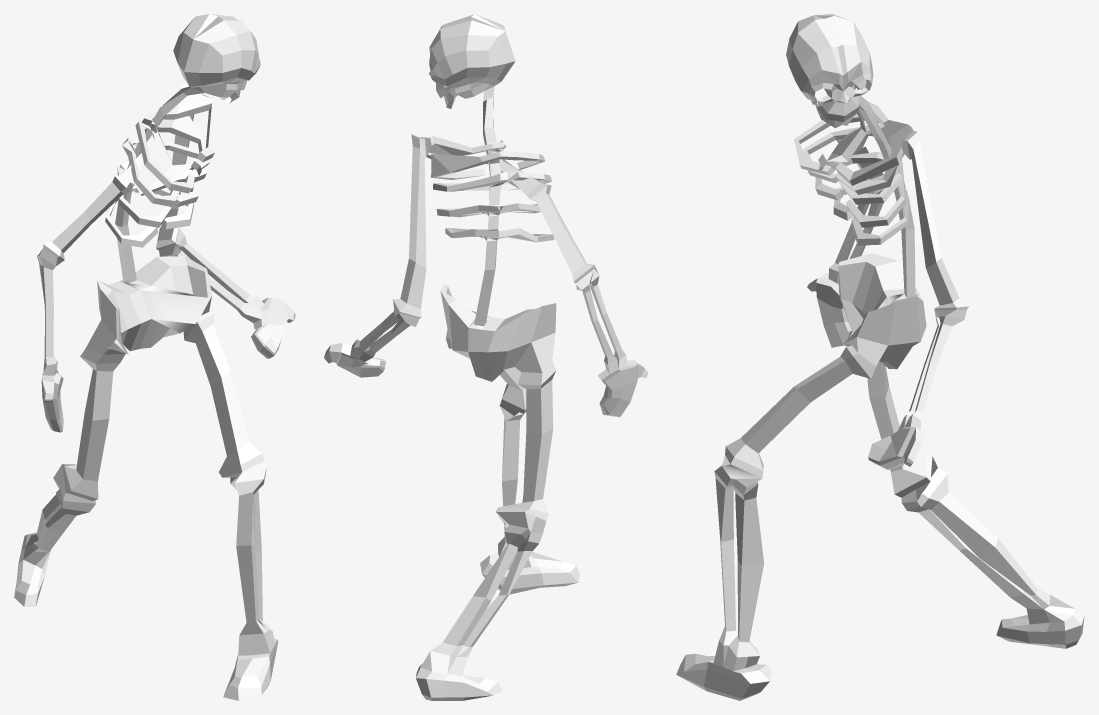
Rendered from SkeletonIdle(34).obj.
The picture shows the model from 3 angles, left to right: view 1: azimuth 30°, elevation 25°; view 2: azimuth 150°, elevation 25°; view 3: azimuth 270°, elevation 25°; orthographic projection. The views are drawn at different scales.
Visible parts, largest first — view 1: Object002; view 2: Object002; view 3: Object002.
Boxes of the visible parts, x1=… form: Object002: x1=14, y1=14, x2=295, y2=700; Object002: x1=324, y1=14, x2=647, y2=700; Object002: x1=676, y1=14, x2=1084, y2=700.
Bounding box in the file's own units: 544 × 1108 × 606.
